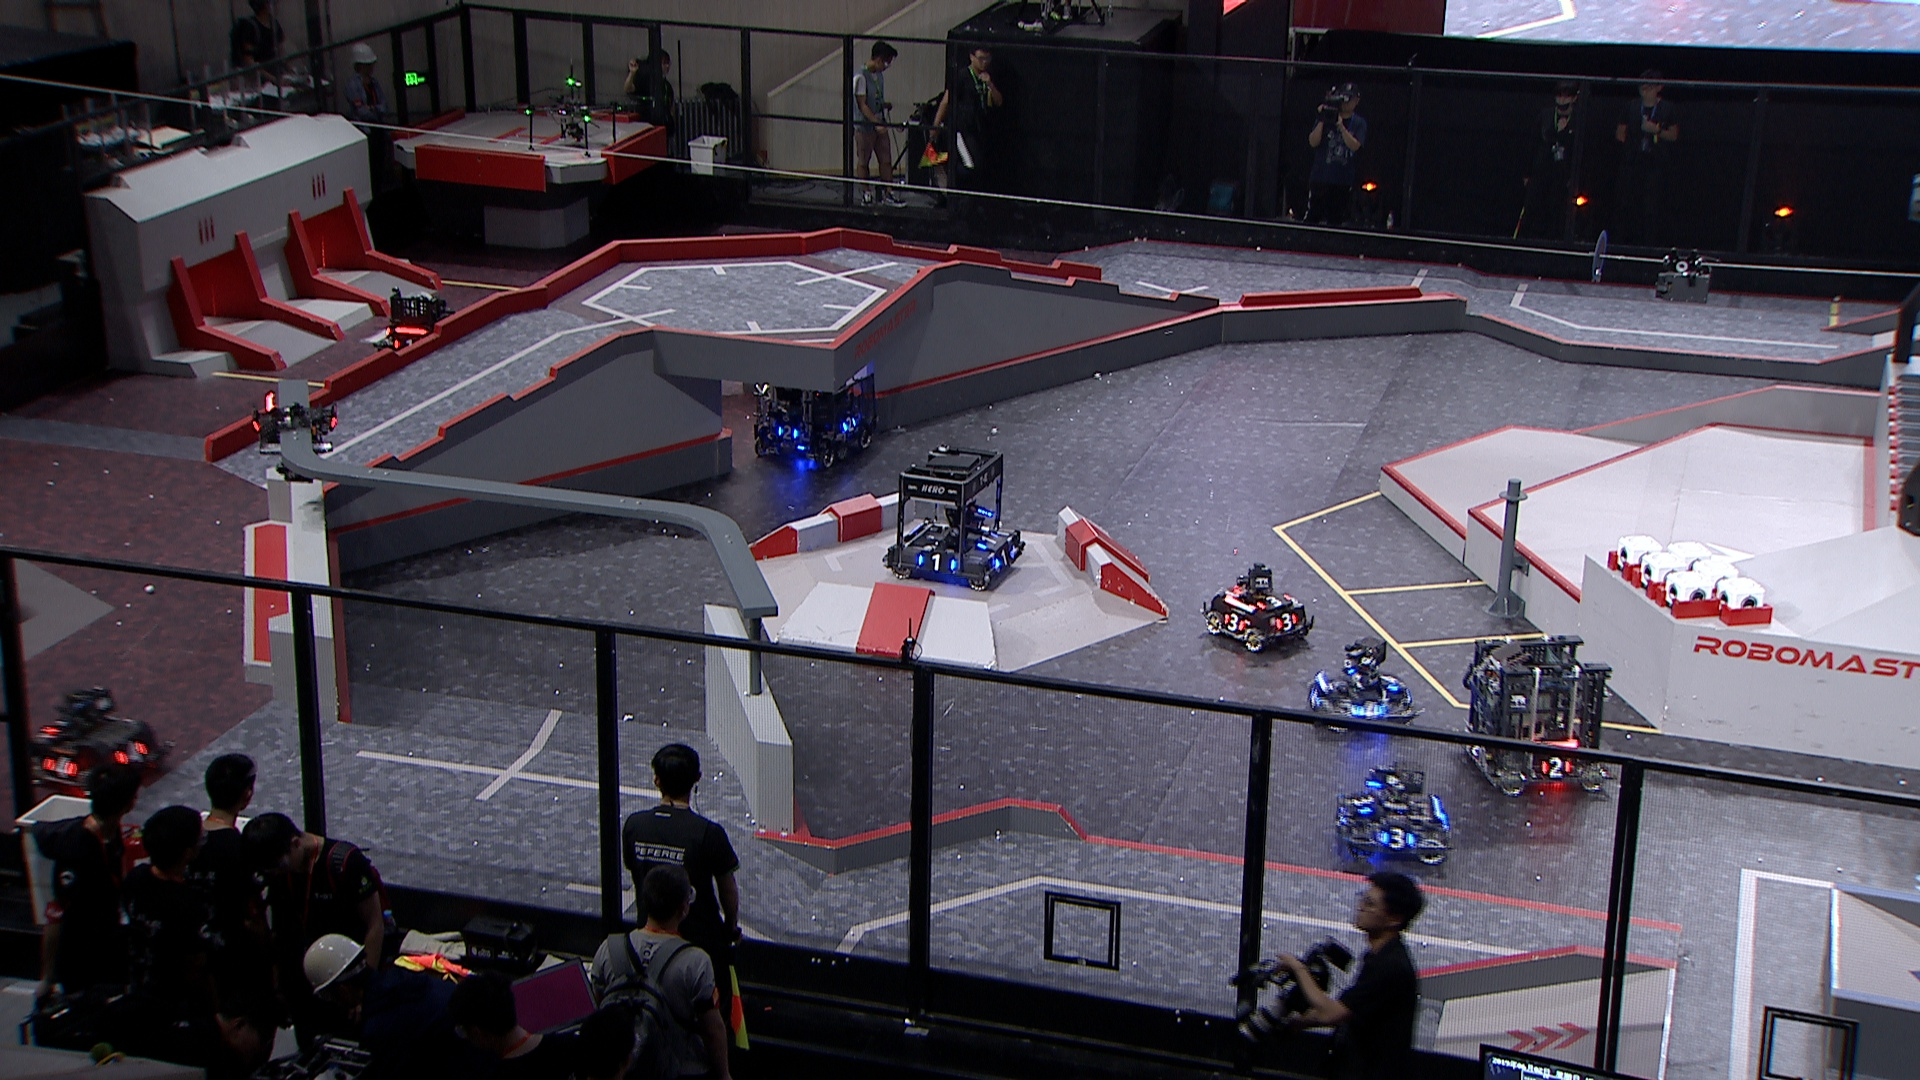armor: (116, 737, 146, 766), (44, 754, 76, 779), (918, 553, 957, 571), (1538, 757, 1571, 778), (38, 716, 69, 738), (1259, 591, 1294, 609), (1379, 828, 1414, 847), (1221, 612, 1247, 636), (1378, 669, 1404, 688), (1358, 699, 1385, 719), (1275, 612, 1298, 632), (993, 547, 1015, 567), (1349, 794, 1371, 812), (977, 531, 998, 550), (1466, 735, 1482, 756), (1305, 684, 1319, 707), (779, 425, 799, 439), (392, 338, 415, 349), (1335, 804, 1346, 828), (841, 417, 858, 433)
car: (1457, 626, 1615, 800), (882, 442, 1026, 589), (746, 343, 884, 467), (25, 684, 167, 799), (1333, 765, 1457, 868), (1199, 560, 1316, 655), (1300, 640, 1414, 735), (373, 289, 465, 372)
watcher: (253, 386, 338, 488)
